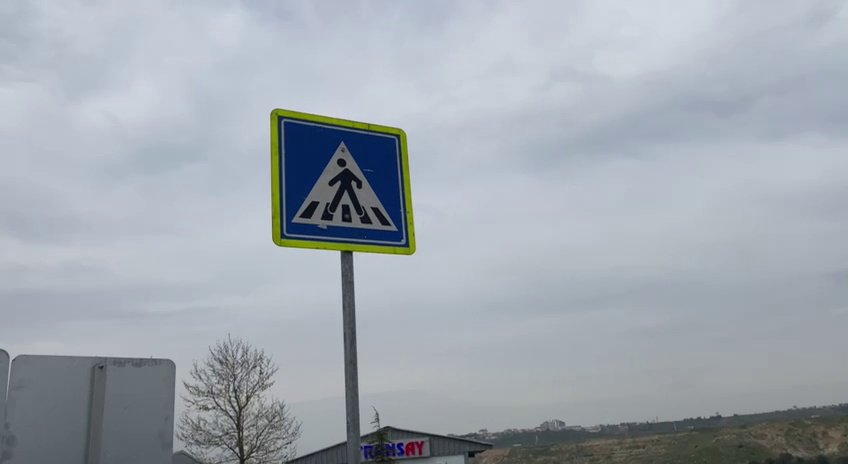pedestrianCrossing: (268, 106, 417, 257)
